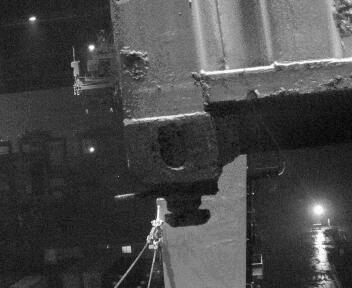twist_lock_1: (75, 190, 163, 247)
